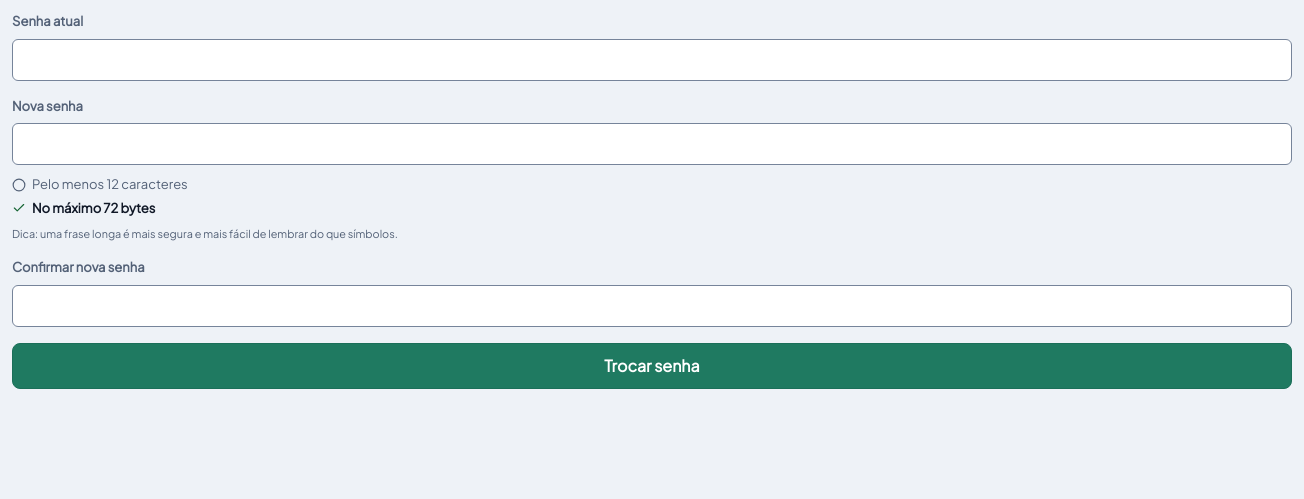
it: ChangePasswordForm › senha atual errada devolve o foco para o campo da senha atual
Type "senha-antiga-123" into the password field labelled "Senha atual" at (652, 60), box [12,38,1292,80]
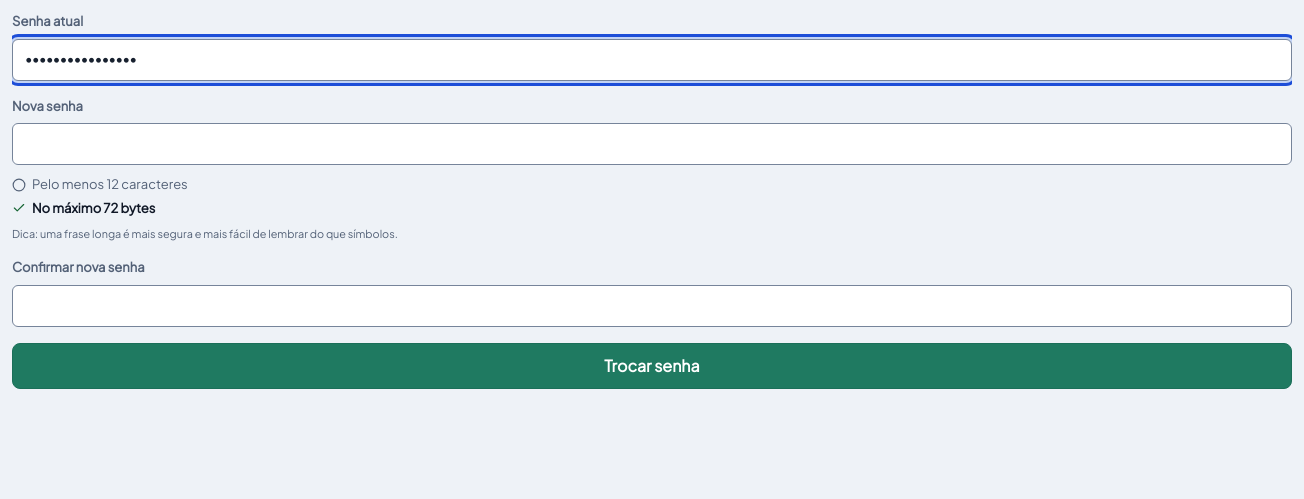
Type "cavalo azul come batata" into the password field labelled "Nova senha" at (652, 144), box [12,123,1292,165]
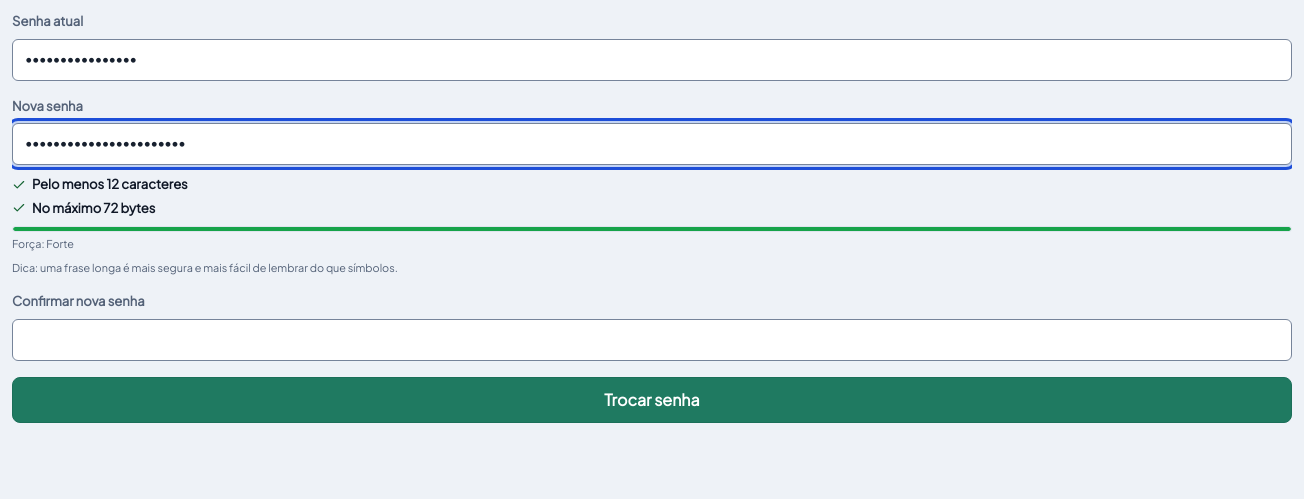
Type "cavalo azul come batata" into the password field labelled "Confirmar nova senha" at (652, 340), box [12,319,1292,361]
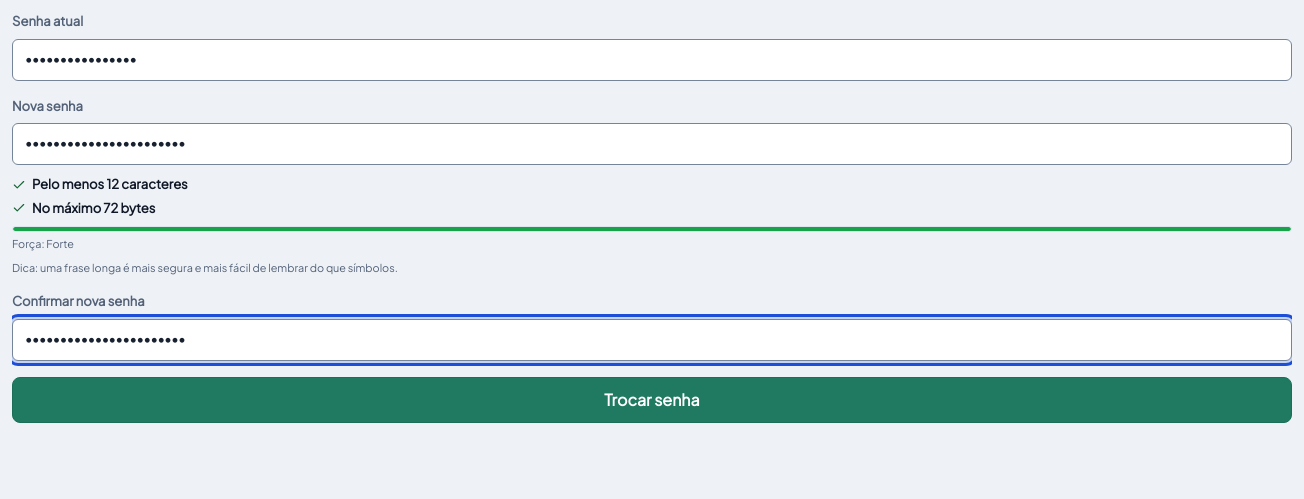
Click the button "Trocar senha" at (652, 400), box [12,377,1292,423]
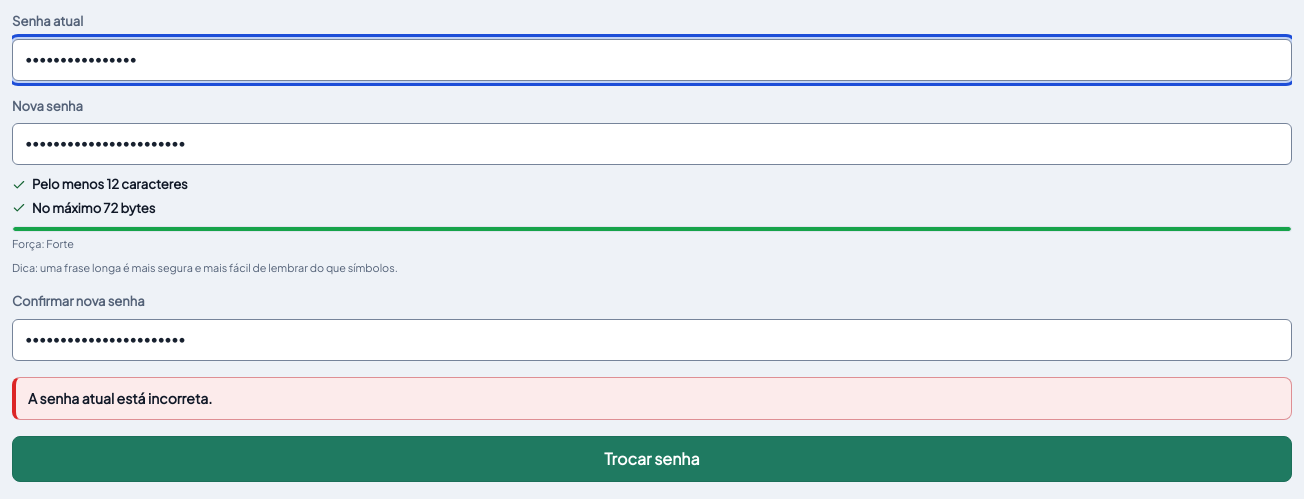
Expected: the message reads "A senha atual está incorreta.", [28,389,212,407]
